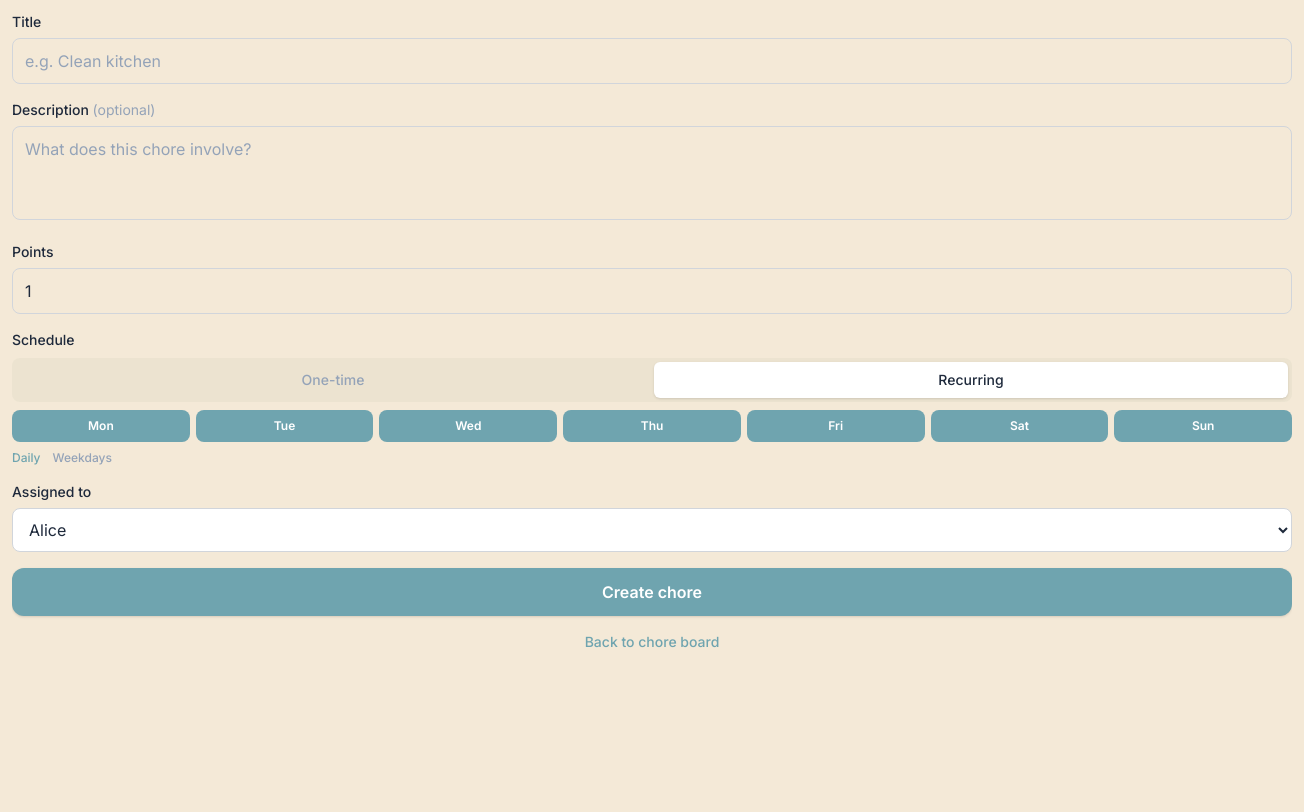
Test case: CreateChoreForm › switches back to recurring mode from one-time
Click the button "One-time": (333, 380) 16,362 -> 650,398
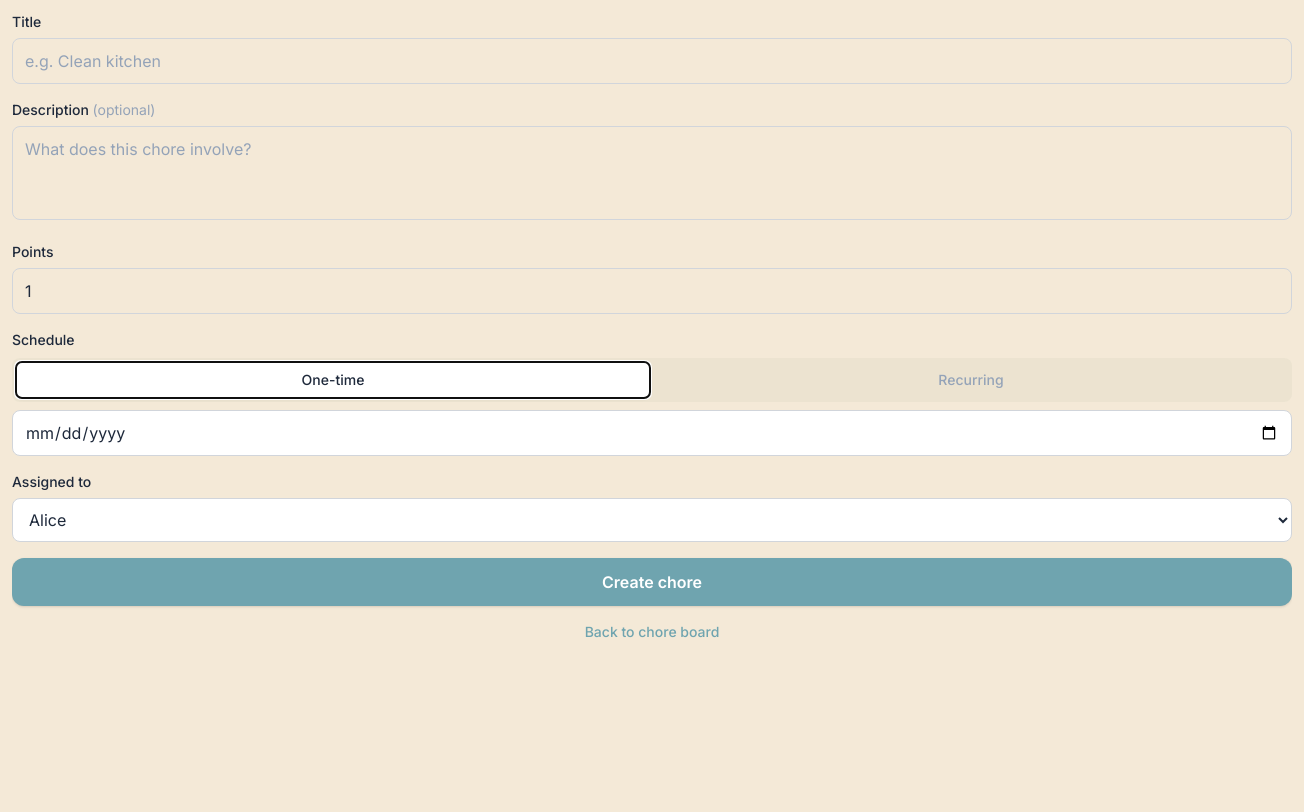
expect the button "Daily" is gone: met
Click the button "Recurring": (971, 380) 654,362 -> 1288,398
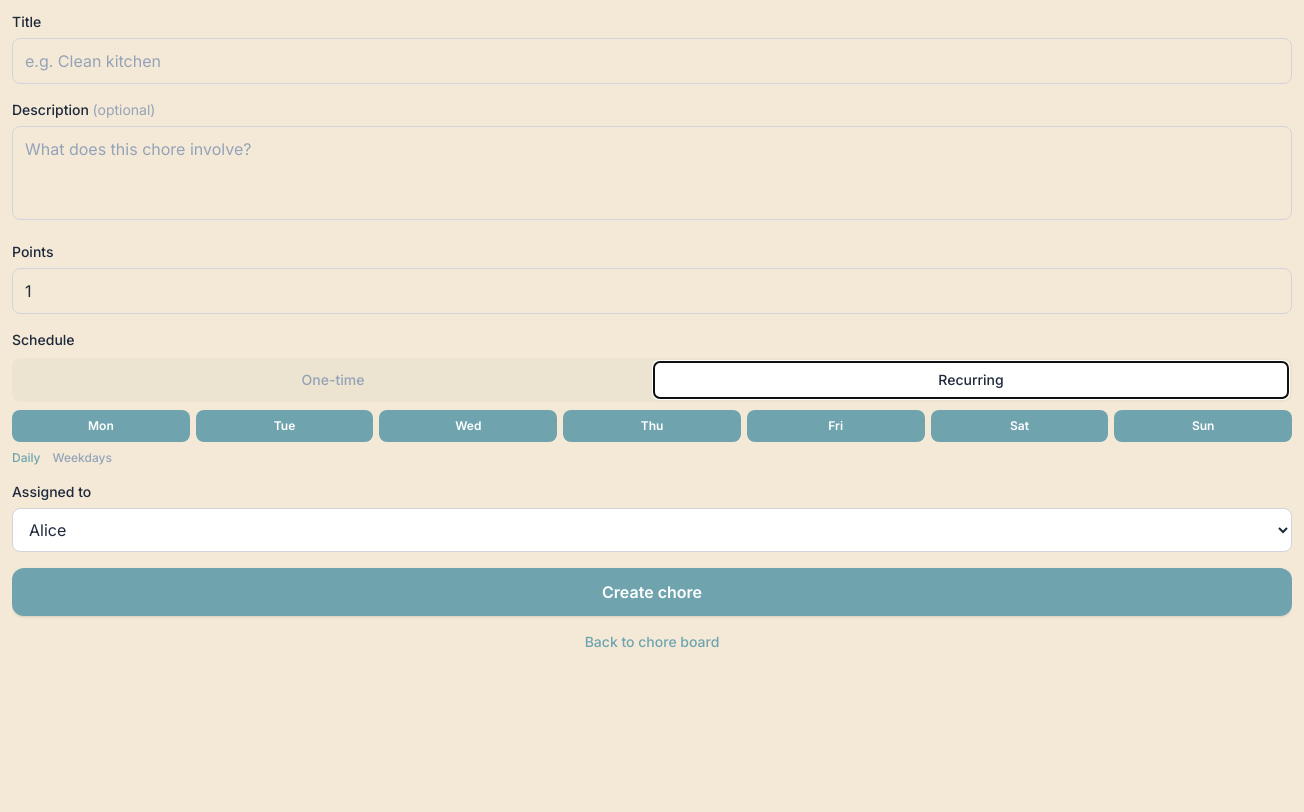
expect the button "Daily" is shown: met, box 12,450 -> 40,466
expect the button "Weekdays" is shown: met, box 52,450 -> 112,466
